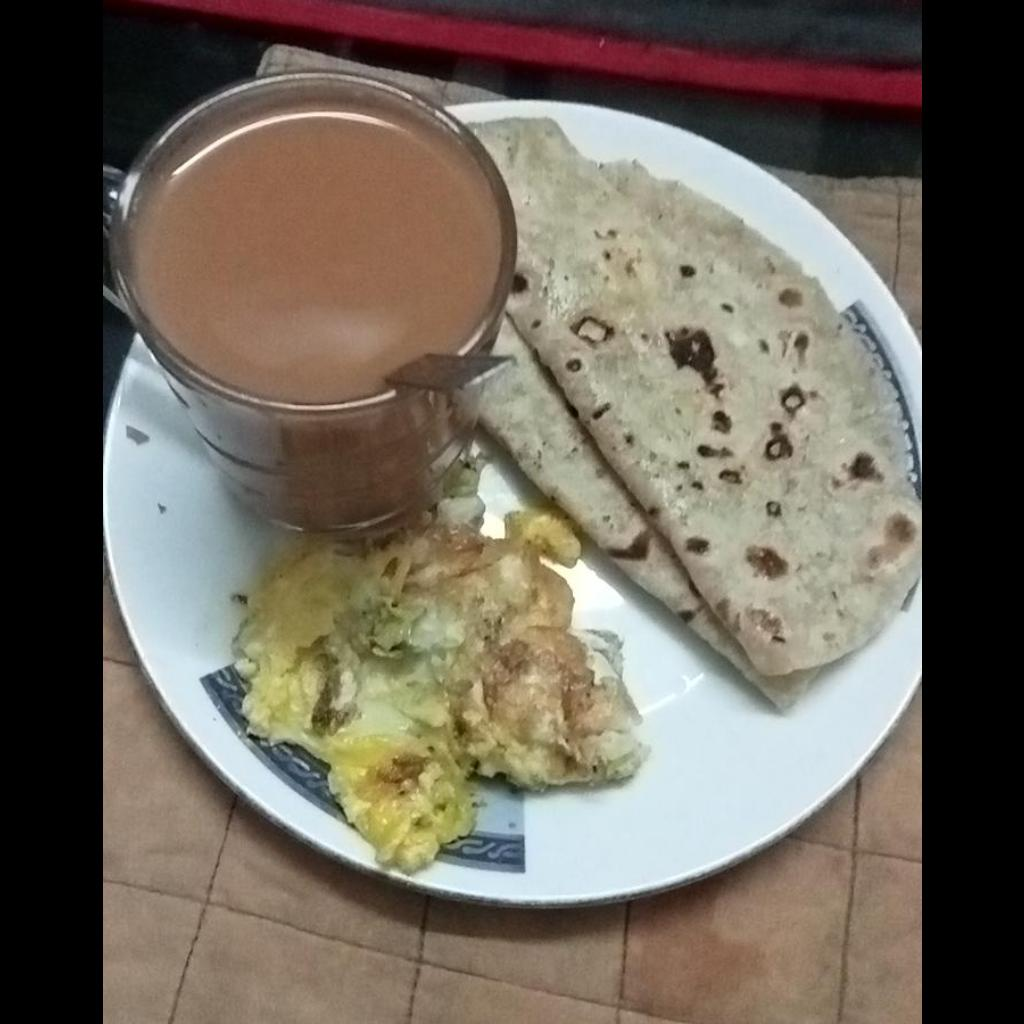cha: (136, 102, 503, 402)
egg-poached: (234, 505, 644, 866)
ruti: (470, 116, 920, 718)
